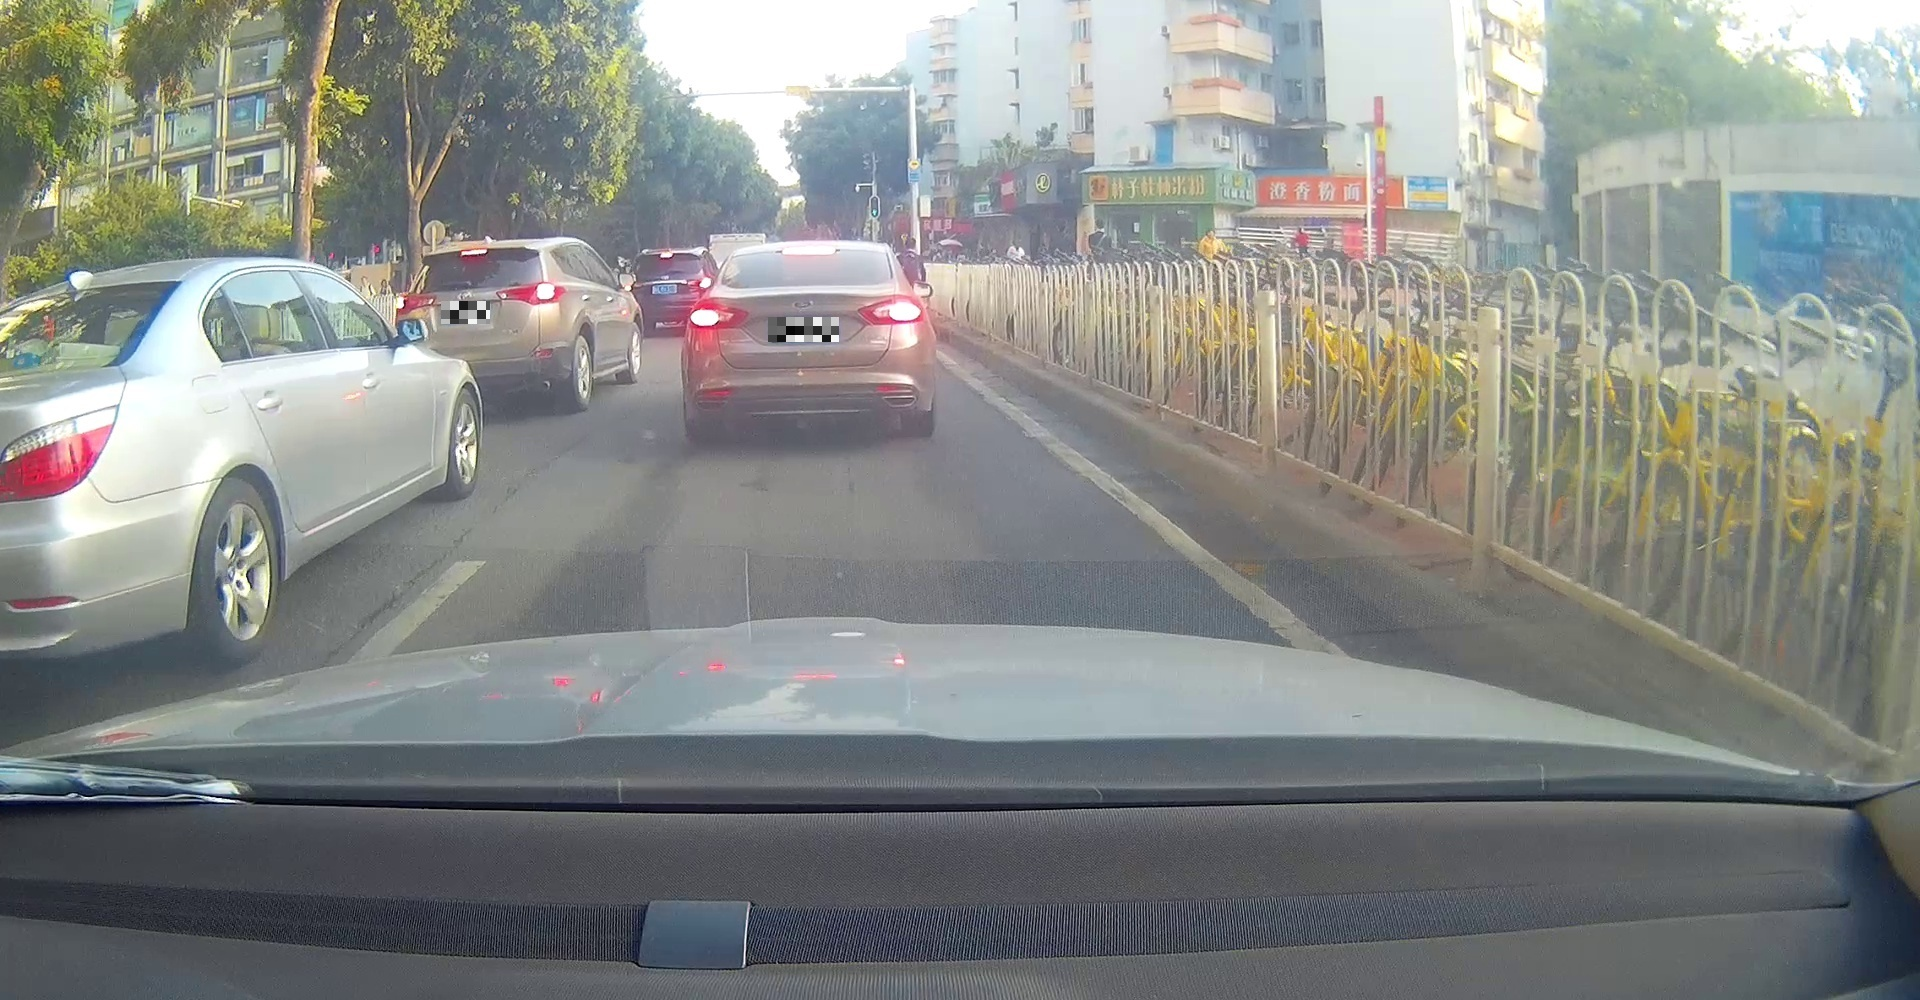L_light: (684, 302, 748, 329), (397, 293, 437, 315)
R_light: (856, 296, 924, 325), (495, 280, 566, 307)
T_light: (781, 245, 837, 255), (460, 247, 488, 256)
day-brake: (684, 239, 926, 440), (394, 239, 569, 412)
plate_1: (441, 301, 490, 324)
plate_2: (768, 317, 839, 341)
